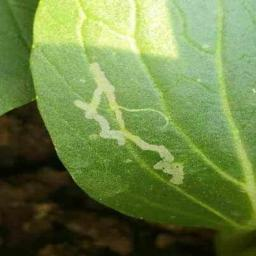liriomyza: (74, 61, 185, 186)
